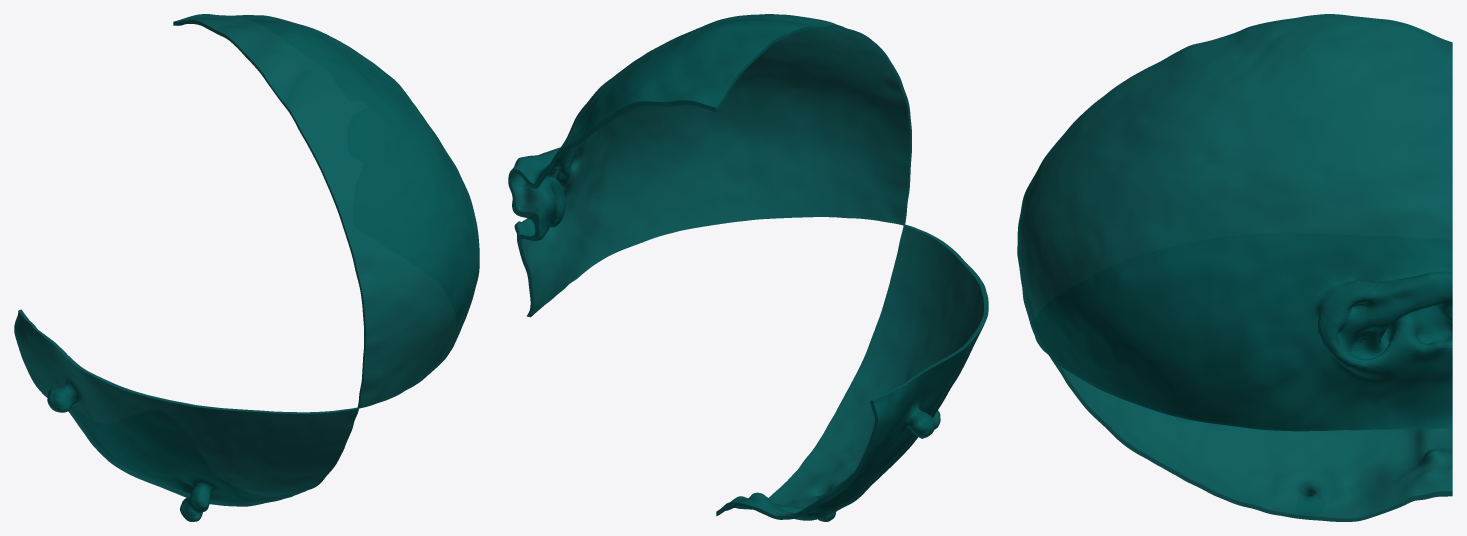
Rendered from Scalp_quadrants.obj.
3 renders of one model, left to right at view 1: azimuth 30°, elevation 25°; view 2: azimuth 150°, elevation 25°; view 3: azimuth 270°, elevation 25°, orthographic. The views are drawn at different scales.
Visible parts, largest first — view 1: grp1; view 2: grp1; view 3: grp1.
Part boxes in pixels (<box>): grp1: <box>14,14,479,521</box>; grp1: <box>508,14,988,521</box>; grp1: <box>1017,14,1452,521</box>.
Bounding box in the file's own units: 165 × 190 × 143.
